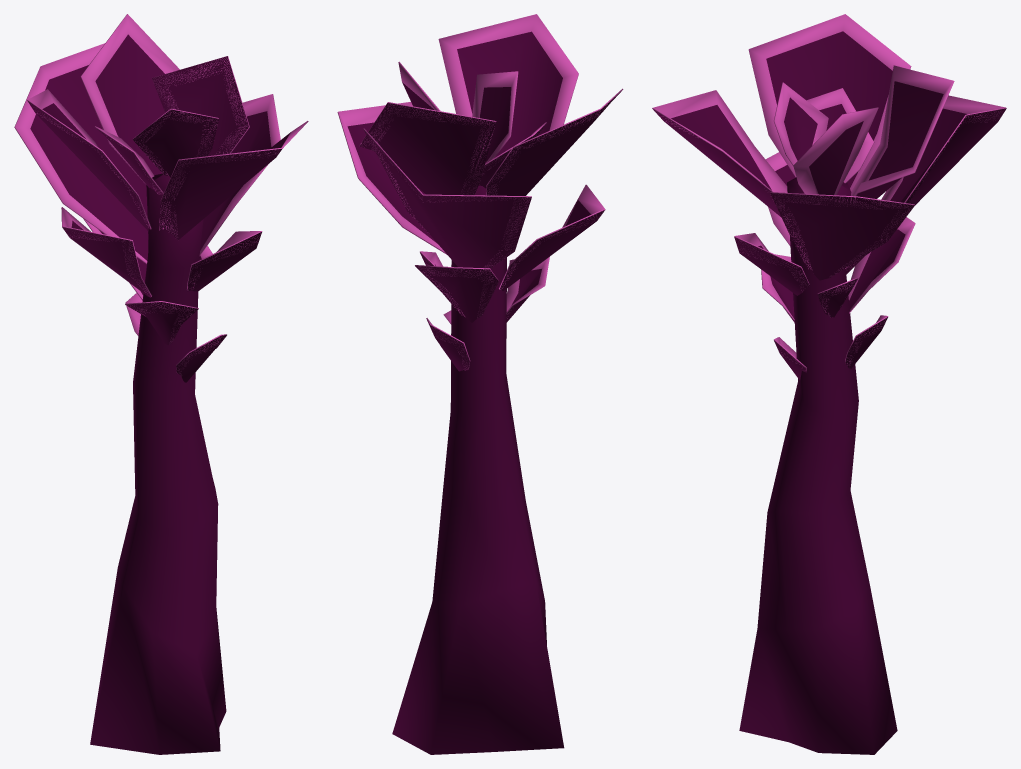
The model's file is SciFiTree_Parts.fbx.
3 views of the same model, side by side, from view 1: azimuth 30°, elevation 25°; view 2: azimuth 150°, elevation 25°; view 3: azimuth 270°, elevation 25° (orthographic). The views are drawn at different scales.
Parts seen in each view (by area): view 1: scifi-tree-crown-big.parts, scifi-tree-crown-big.parts.001, scifi-tree-crown-big.parts.005, scifi-tree-crown-big.parts.002, scifi-tree-crown-big.parts.010, scifi-tree-crown-big.parts.003, scifi-tree-crown-big.parts.006, scifi-tree-crown-big.parts.004, scifi-tree-crown-big.parts.007, scifi-tree-crown-big.parts.009; view 2: scifi-tree-crown-big.parts, scifi-tree-crown-big.parts.002, scifi-tree-crown-big.parts.005, scifi-tree-crown-big.parts.001, scifi-tree-crown-big.parts.003, scifi-tree-crown-big.parts.006, scifi-tree-crown-big.parts.004, scifi-tree-crown-big.parts.008, scifi-tree-crown-big.parts.009, scifi-tree-crown-big.parts.010; view 3: scifi-tree-crown-big.parts, scifi-tree-crown-big.parts.003, scifi-tree-crown-big.parts.006, scifi-tree-crown-big.parts.005, scifi-tree-crown-big.parts.002, scifi-tree-crown-big.parts.001, scifi-tree-crown-big.parts.010, scifi-tree-crown-big.parts.008, scifi-tree-crown-big.parts.007, scifi-tree-crown-big.parts.009, scifi-tree-crown-big.parts.004.
Part boxes in pixels (box(x1,y1,x2,y2)): scifi-tree-crown-big.parts: box(90, 108, 226, 754); scifi-tree-crown-big.parts.001: box(14, 43, 148, 263); scifi-tree-crown-big.parts.005: box(80, 14, 179, 183); scifi-tree-crown-big.parts.002: box(159, 121, 308, 240); scifi-tree-crown-big.parts.010: box(152, 56, 249, 155); scifi-tree-crown-big.parts.003: box(27, 89, 151, 231); scifi-tree-crown-big.parts.006: box(199, 94, 280, 255); scifi-tree-crown-big.parts.004: box(61, 207, 151, 297); scifi-tree-crown-big.parts.007: box(187, 231, 262, 291); scifi-tree-crown-big.parts.009: box(125, 301, 198, 345); scifi-tree-crown-big.parts: box(392, 71, 564, 754); scifi-tree-crown-big.parts.002: box(438, 14, 578, 158); scifi-tree-crown-big.parts.005: box(359, 102, 496, 195); scifi-tree-crown-big.parts.001: box(363, 128, 531, 268); scifi-tree-crown-big.parts.003: box(486, 88, 623, 195); scifi-tree-crown-big.parts.006: box(337, 102, 446, 254); scifi-tree-crown-big.parts.004: box(499, 184, 605, 290); scifi-tree-crown-big.parts.008: box(415, 265, 498, 322); scifi-tree-crown-big.parts.009: box(506, 256, 549, 322); scifi-tree-crown-big.parts.010: box(398, 61, 440, 110); scifi-tree-crown-big.parts: box(739, 82, 897, 754); scifi-tree-crown-big.parts.003: box(748, 14, 911, 191); scifi-tree-crown-big.parts.006: box(770, 192, 914, 280); scifi-tree-crown-big.parts.005: box(851, 65, 954, 198); scifi-tree-crown-big.parts.002: box(652, 90, 787, 217); scifi-tree-crown-big.parts.001: box(845, 95, 1006, 274); scifi-tree-crown-big.parts.010: box(793, 107, 878, 195); scifi-tree-crown-big.parts.008: box(848, 217, 915, 313); scifi-tree-crown-big.parts.007: box(734, 233, 809, 295); scifi-tree-crown-big.parts.009: box(761, 254, 794, 322); scifi-tree-crown-big.parts.004: box(765, 152, 795, 245).
Bounding box in the file's own units: 253 × 628 × 308.
1 material, 1 textured.
